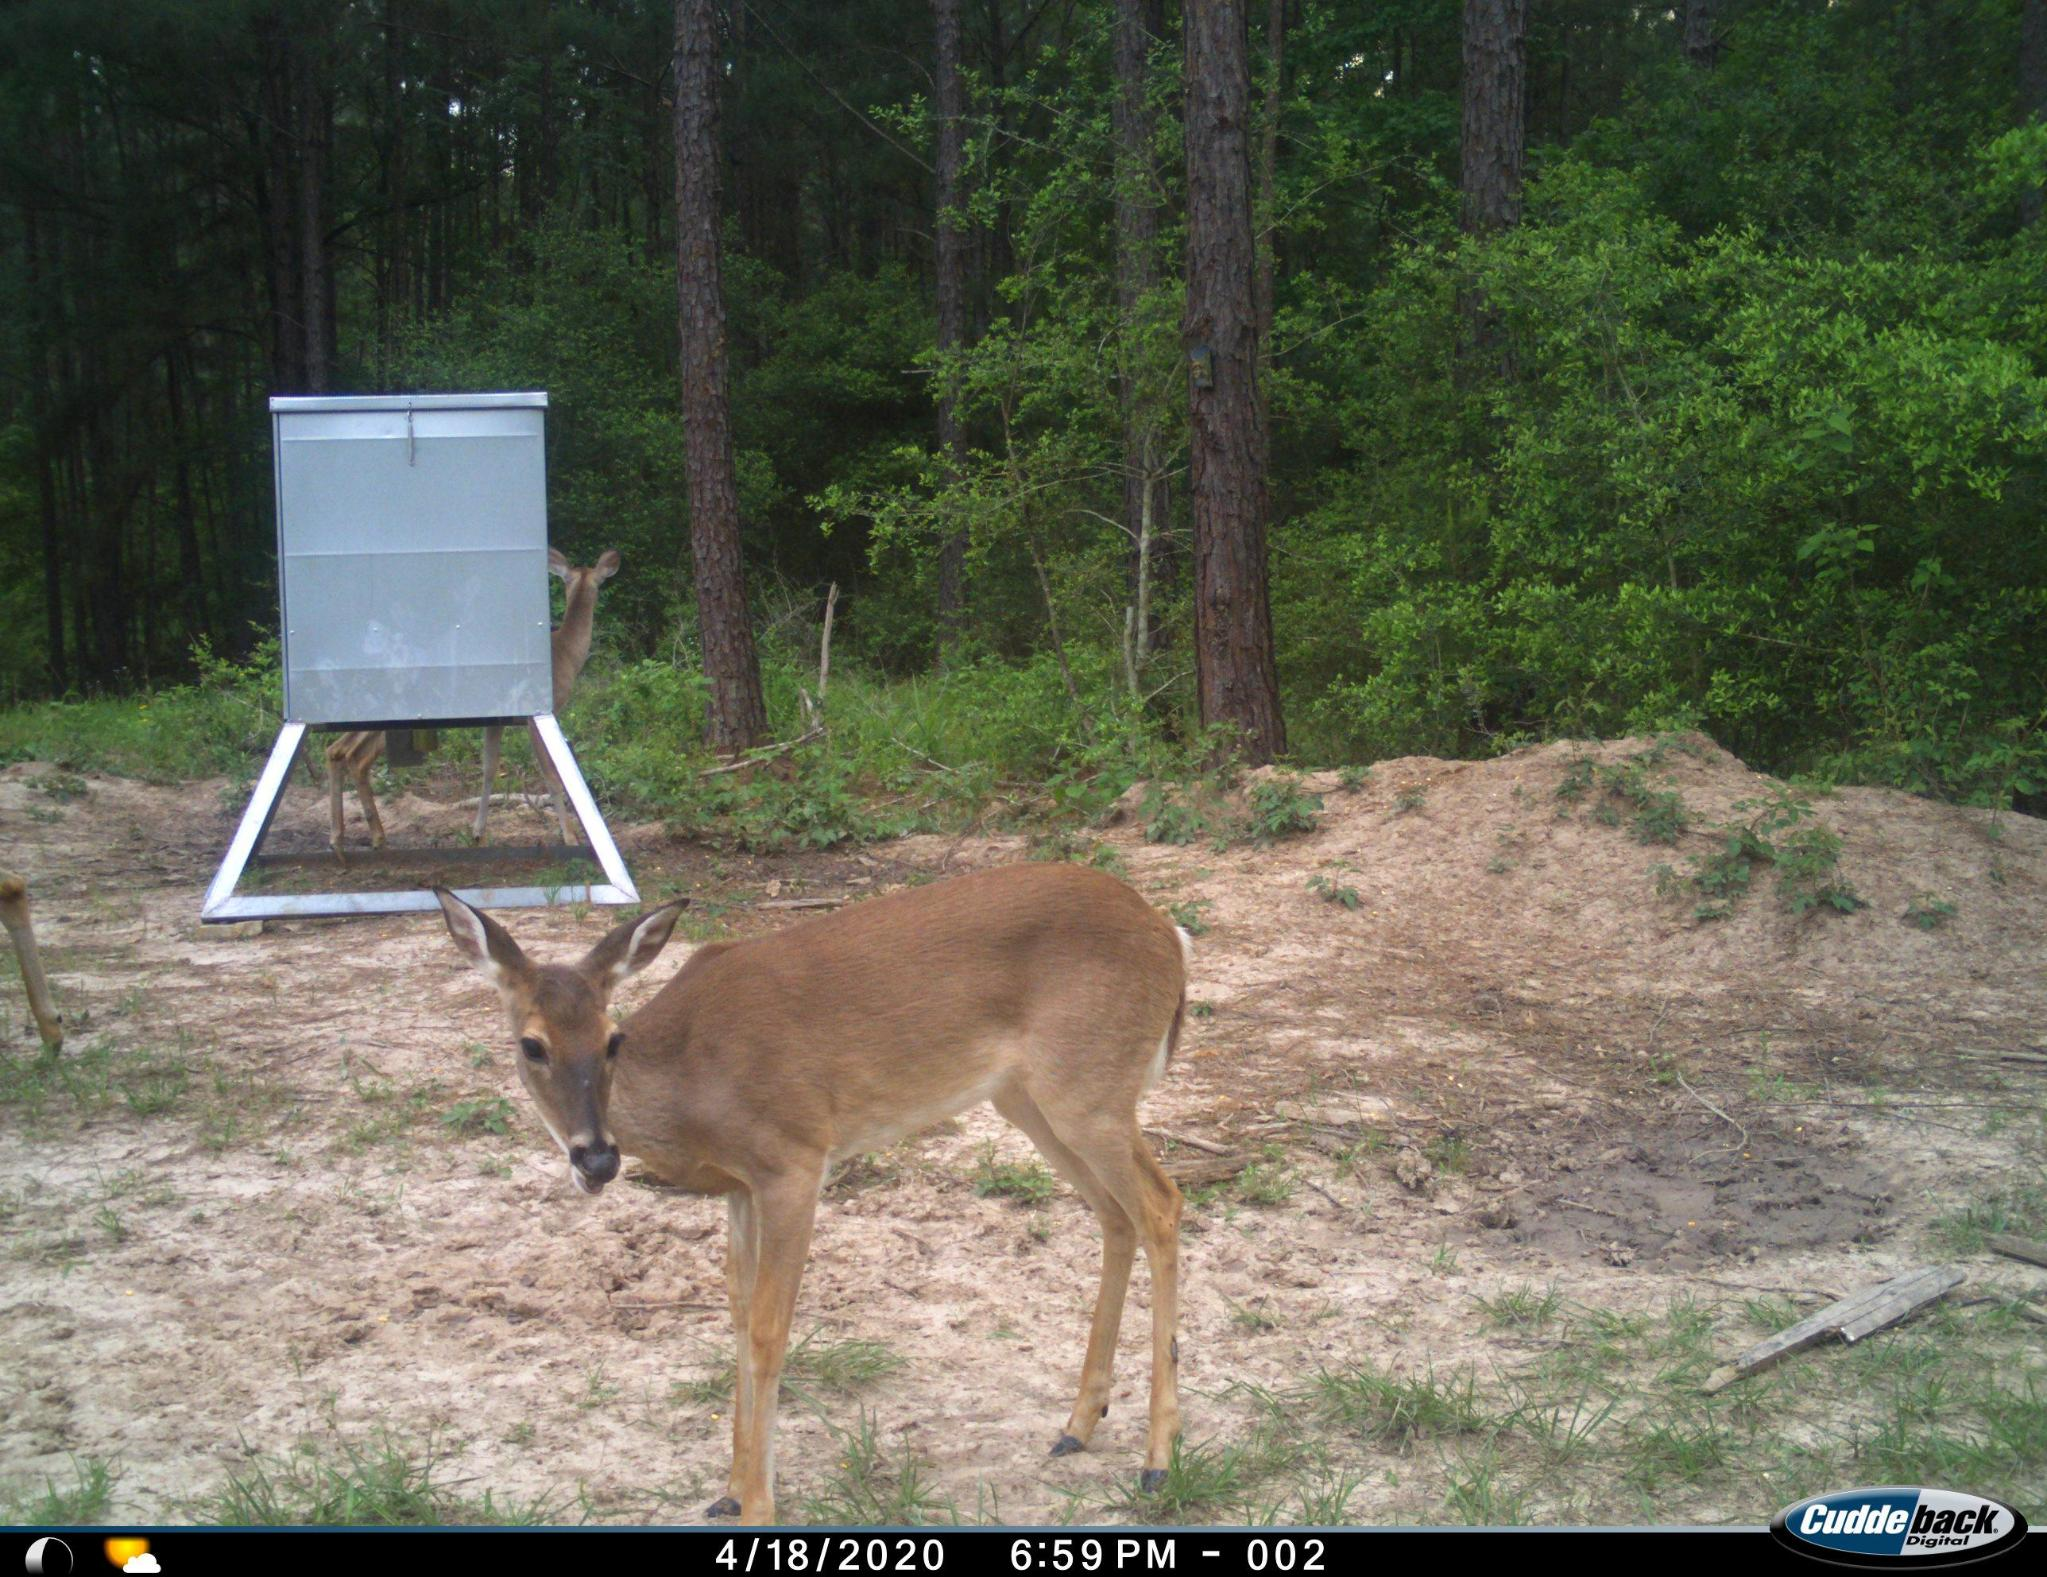Deer: (419, 840, 1217, 1537), (291, 530, 639, 865), (7, 832, 81, 1085)
